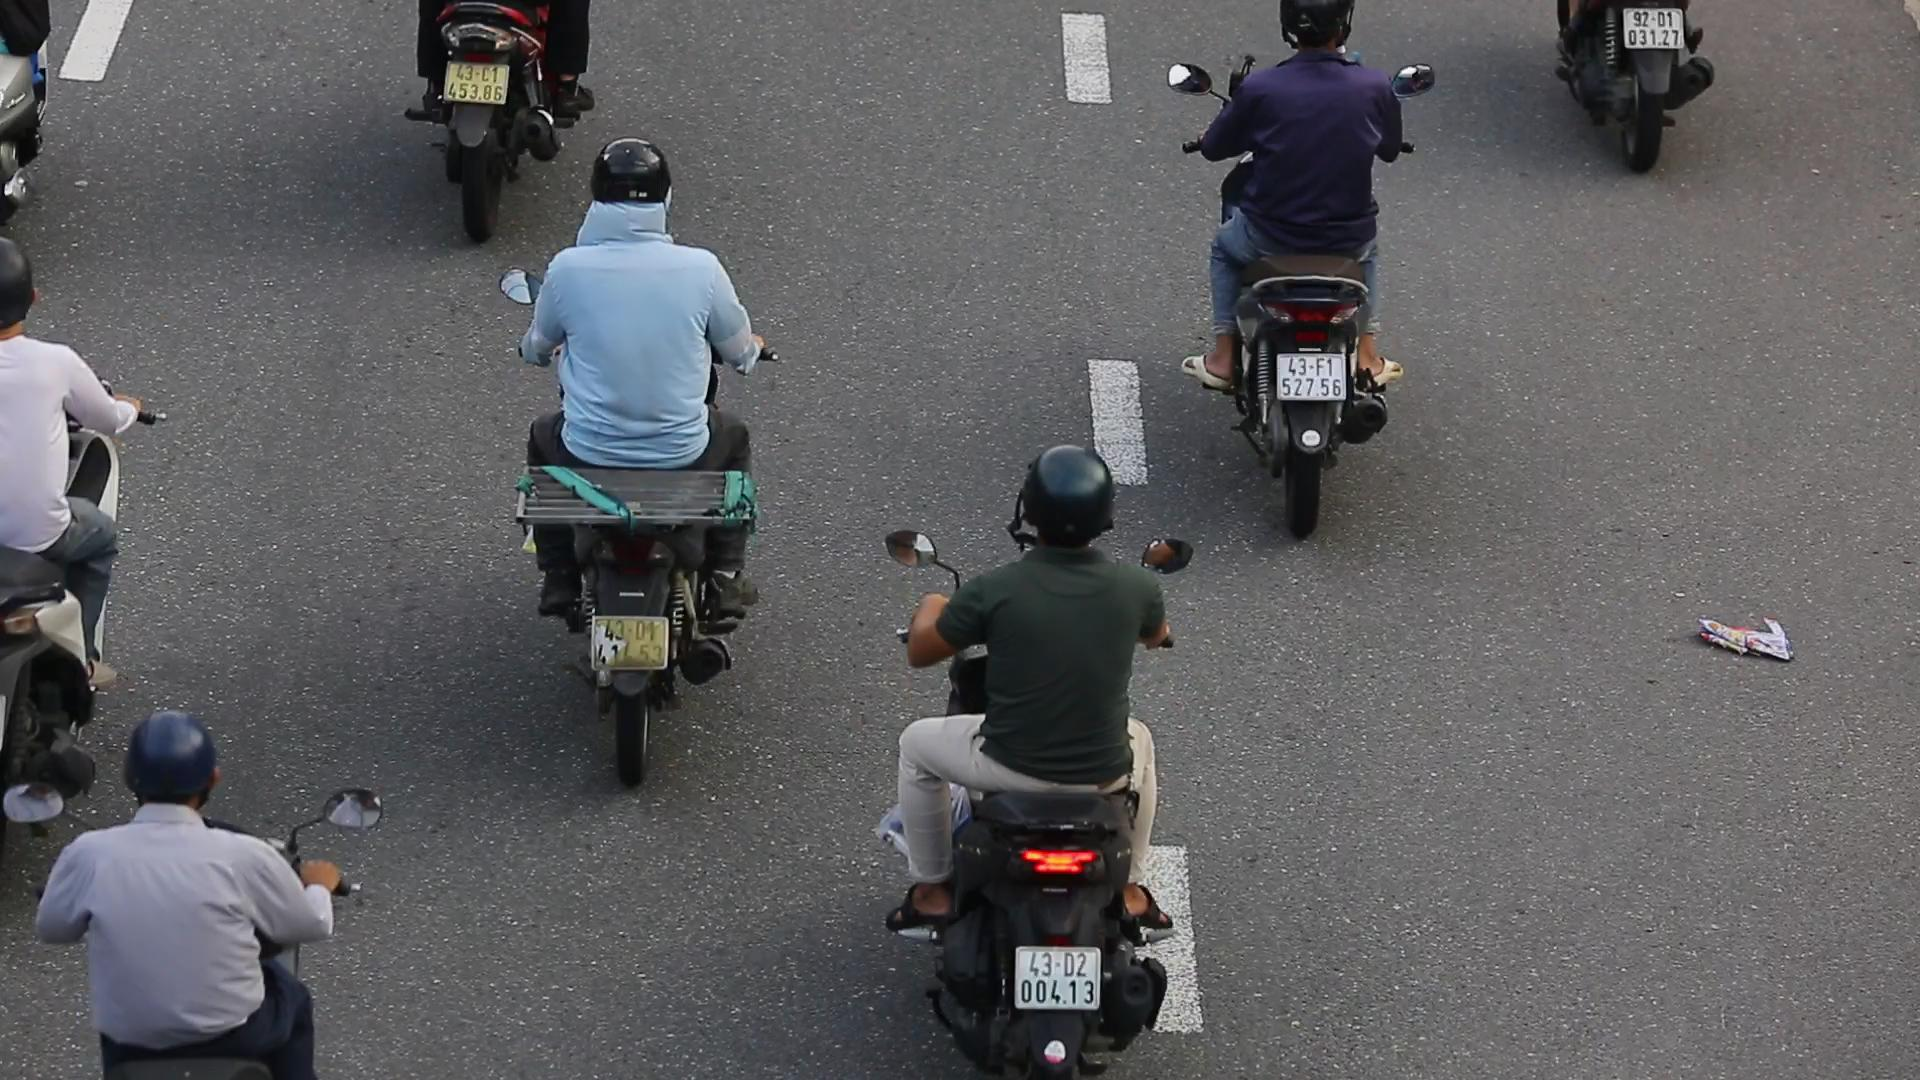motobike: (852, 433, 1211, 1080), (501, 131, 783, 789), (1170, 0, 1447, 555)
